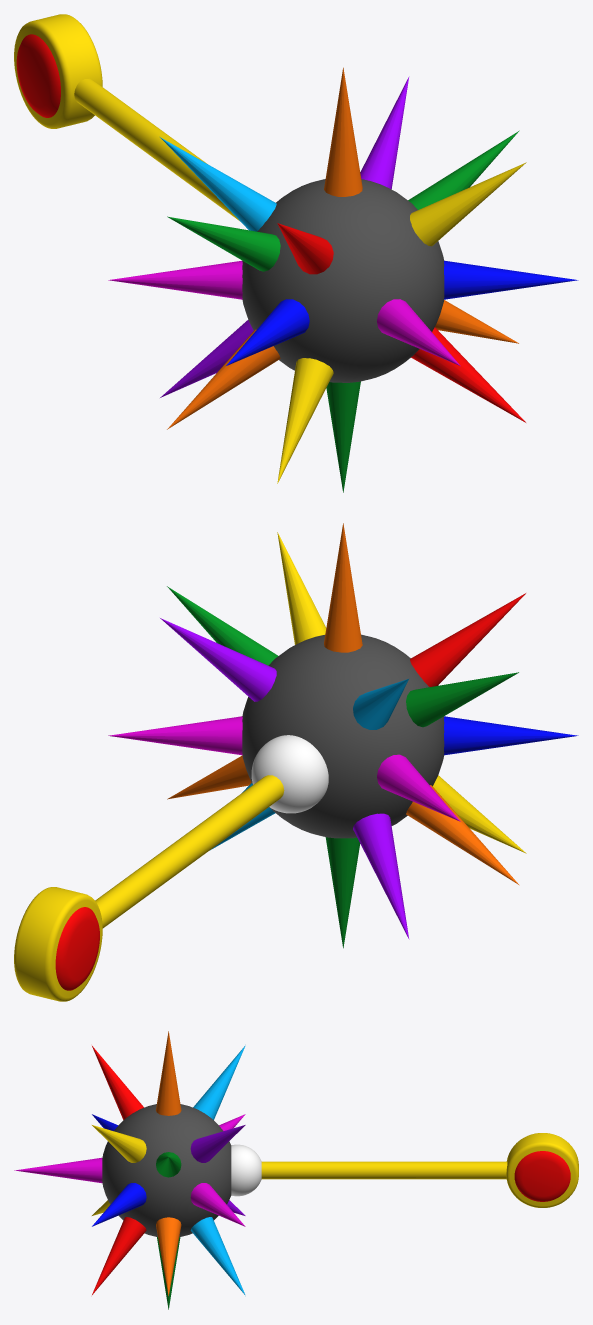
Rendered from Lac Lac Chong.fbx.
3 renders of one model, top to bottom at view 1: azimuth 30°, elevation 25°; view 2: azimuth 150°, elevation 25°; view 3: azimuth 270°, elevation 25°, orthographic. The views are drawn at different scales.
Parts seen in each view (by area): view 1: Cloner, Sphere, Cylinder_1, Cylinder, Cylinder_2; view 2: Cloner, Sphere, Cylinder, Cylinder_1, Sphere_1, Cylinder_2; view 3: Cloner, Sphere, Cylinder, Cylinder_2, Cylinder_1, Sphere_1.
Boxes of the visible parts, <box> form: Cloner: <box>108,67,578,492</box>; Sphere: <box>242,179,444,382</box>; Cylinder_1: <box>14,14,102,128</box>; Cylinder: <box>74,78,239,220</box>; Cylinder_2: <box>16,34,60,117</box>; Cloner: <box>108,523,578,948</box>; Sphere: <box>242,634,444,838</box>; Cylinder: <box>95,775,284,928</box>; Cylinder_1: <box>14,887,102,1001</box>; Sphere_1: <box>251,735,328,813</box>; Cylinder_2: <box>55,907,99,990</box>; Cloner: <box>14,1031,245,1309</box>; Sphere: <box>102,1104,231,1236</box>; Cylinder: <box>261,1161,507,1179</box>; Cylinder_2: <box>514,1151,570,1201</box>; Cylinder_1: <box>506,1133,578,1207</box>; Sphere_1: <box>231,1144,261,1196</box>.
Bounding box in the file's own units: 74.88 × 86.46 × 158.
